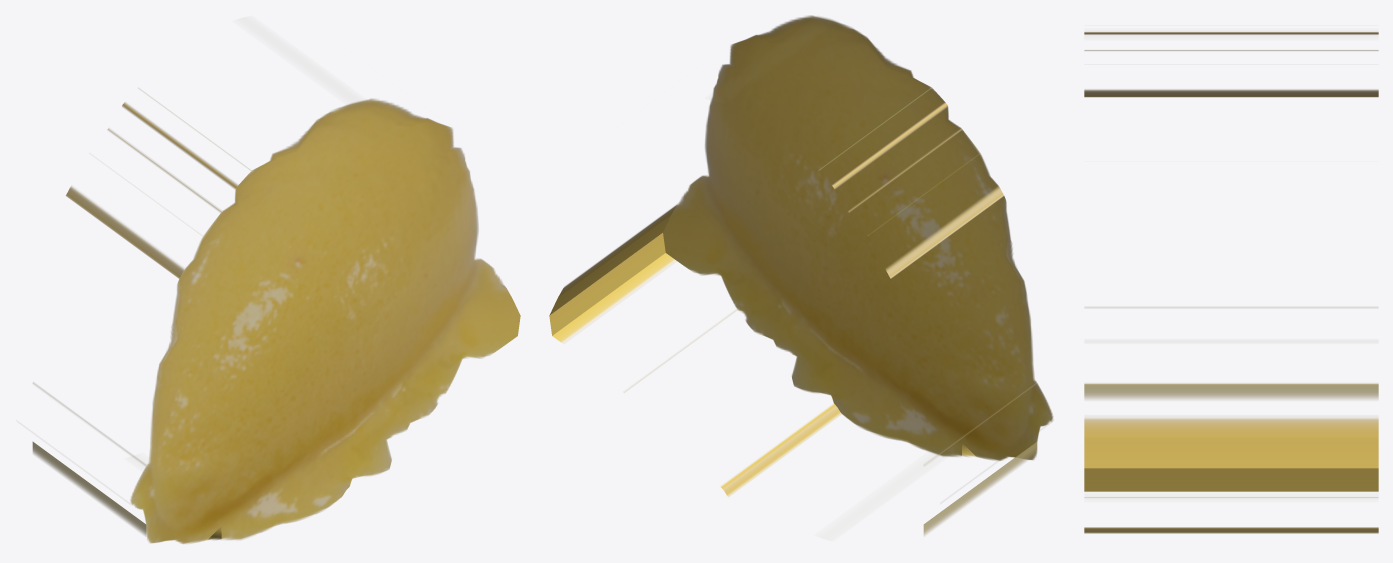
File: icecream2.glb
The picture shows the model from 3 angles, left to right: view 1: azimuth 30°, elevation 25°; view 2: azimuth 150°, elevation 25°; view 3: azimuth 270°, elevation 25°; orthographic projection. The views are drawn at different scales.
Visible parts, largest first — view 1: Plane; view 2: Plane; view 3: Plane.
Part boxes in pixels (x1=…): Plane: x1=32, y1=87, x2=520, y2=543; Plane: x1=549, y1=15, x2=1053, y2=535; Plane: x1=1084, y1=32, x2=1378, y2=533.
Bounding box in the file's own units: 0.9977 × 1 × 0.5.
Materials: 1 (1 with a texture image).
